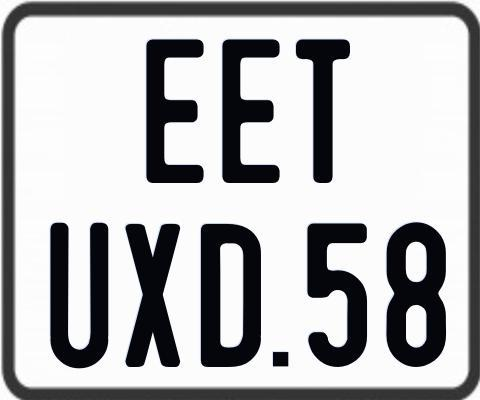5: (307, 223, 372, 368)
8: (383, 221, 444, 367)
D: (200, 224, 260, 372)
E: (219, 37, 283, 186), (143, 38, 202, 185)
T: (293, 37, 348, 181)
U: (50, 222, 112, 373)
X: (125, 223, 185, 371)
